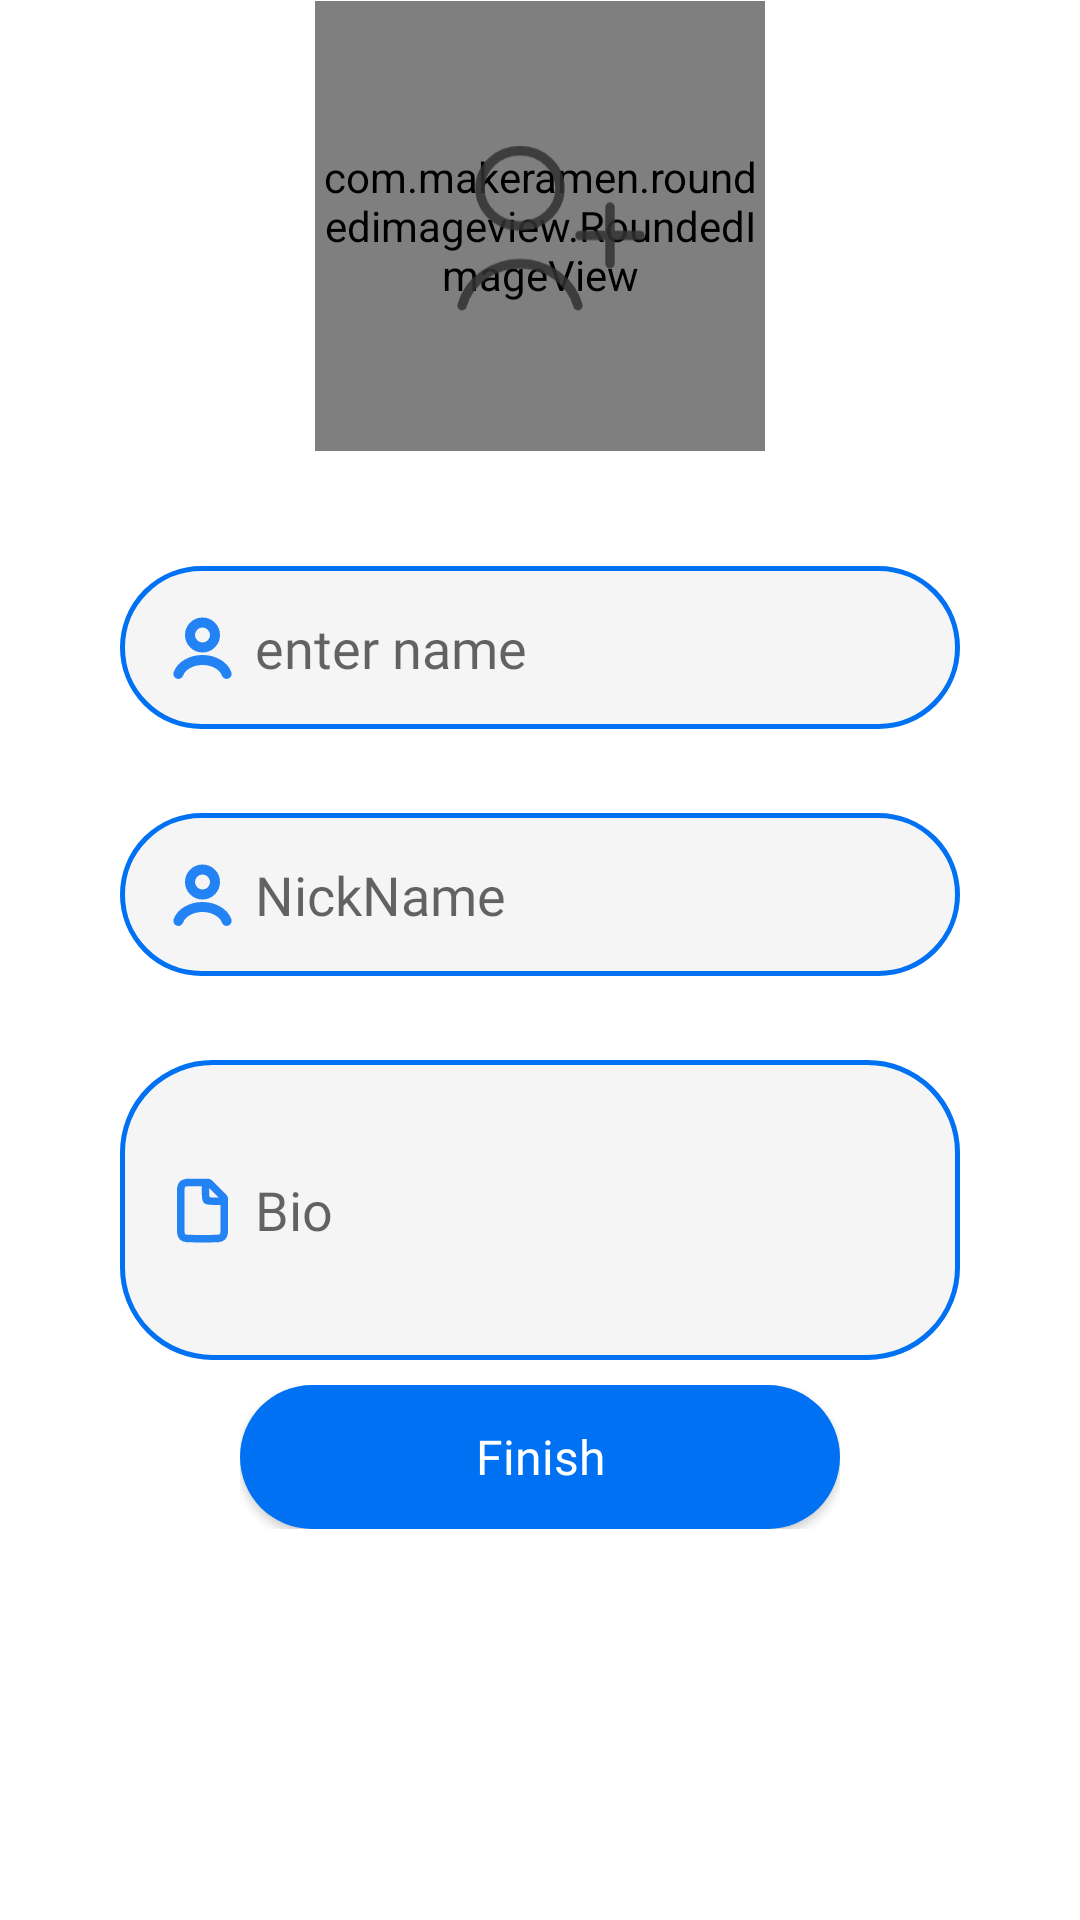

Screen size 1080 × 1920. Icon name, then its box in pixels as rect(x1, y1, x2, y2):
file: rect(177, 1178, 228, 1243)
user: rect(173, 617, 232, 679), rect(173, 864, 232, 926)
